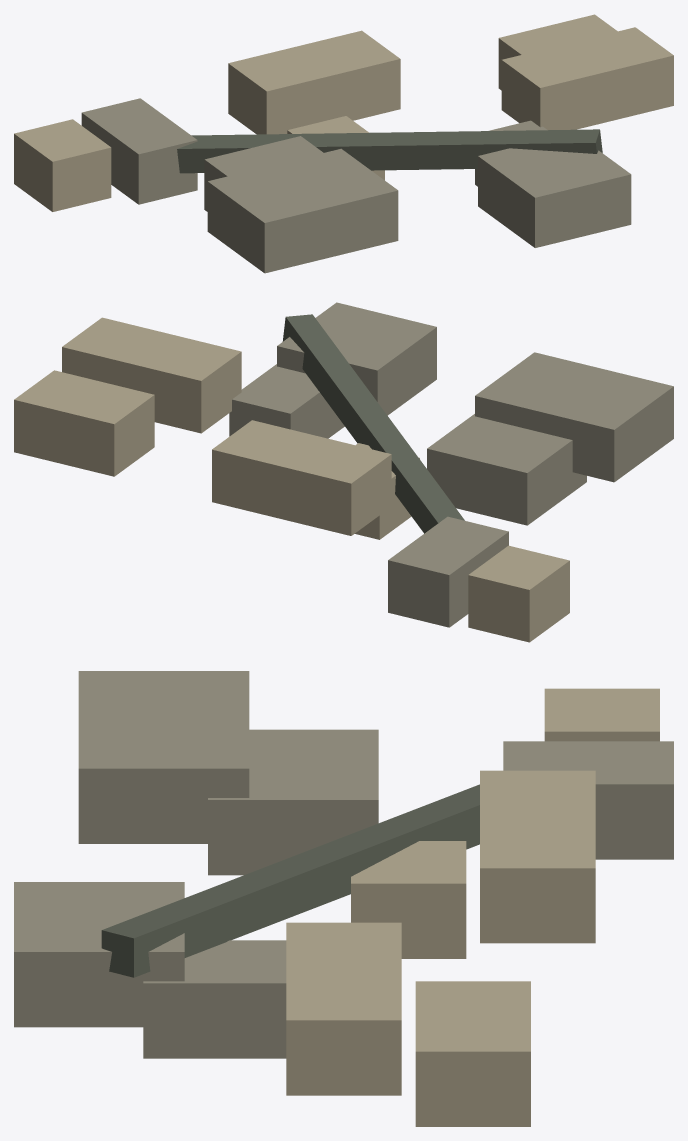
File: rubble.glb
3 renders of one model, top to bottom at view 1: azimuth 30°, elevation 25°; view 2: azimuth 150°, elevation 25°; view 3: azimuth 270°, elevation 25°, orthographic. The views are drawn at different scales.
Visible parts, largest first — view 1: rubble; view 2: rubble; view 3: rubble.
Boxes of the visible parts, left/top/right/bottom form: rubble: left=14, top=14, right=673, bottom=273; rubble: left=14, top=302, right=673, bottom=642; rubble: left=14, top=671, right=673, bottom=1126.
Size of the model in its own units: 2.01 by 0.32 by 1.43.
